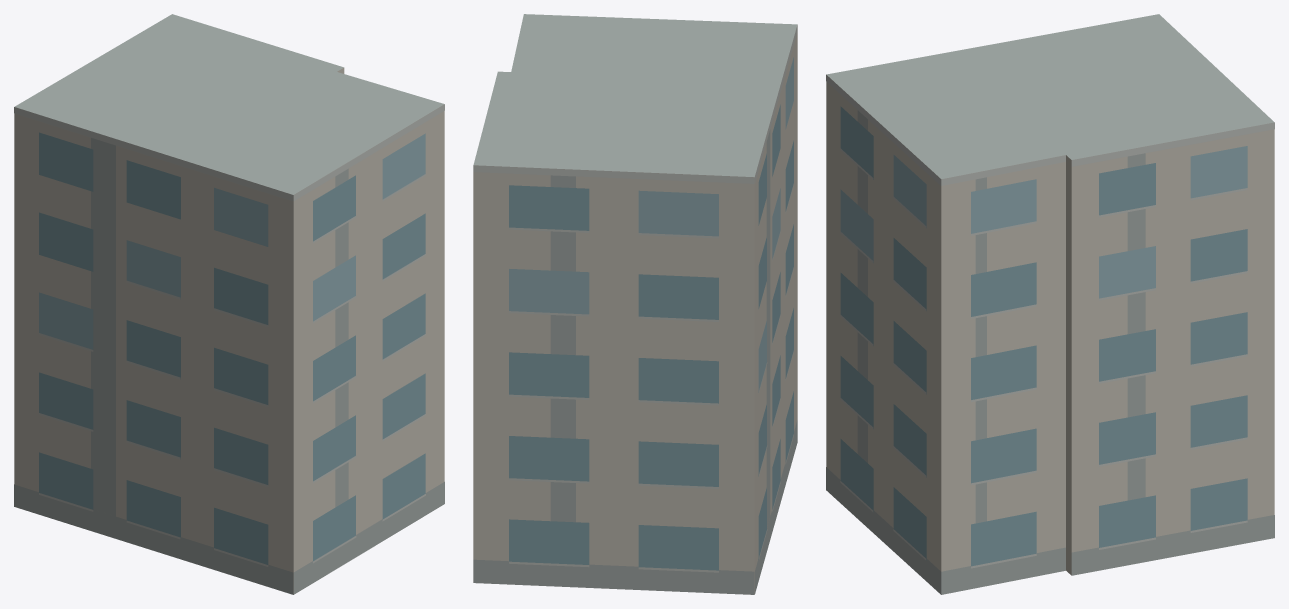
The model's file is survey-upis-32911963.glb.
3 renders of one model, left to right at view 1: azimuth 30°, elevation 25°; view 2: azimuth 150°, elevation 25°; view 3: azimuth 270°, elevation 25°, orthographic. The views are drawn at different scales.
Visible parts, largest first — view 1: survey-upis-32911963.tmp; view 2: survey-upis-32911963.tmp; view 3: survey-upis-32911963.tmp.
Boxes of the visible parts, x1,y1,x2,y2 form: survey-upis-32911963.tmp: (14, 14, 444, 594); survey-upis-32911963.tmp: (473, 14, 797, 594); survey-upis-32911963.tmp: (826, 14, 1274, 594).
Size of the model in its own units: 12.63 by 14.8 by 14.49.
